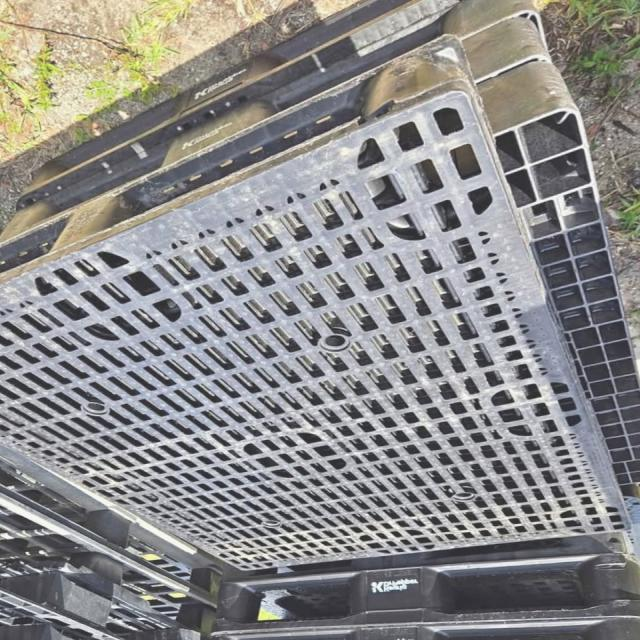non-igps: (1, 1, 638, 574), (0, 0, 474, 260), (8, 0, 472, 219), (203, 494, 640, 640), (0, 452, 237, 616), (0, 543, 227, 640)
